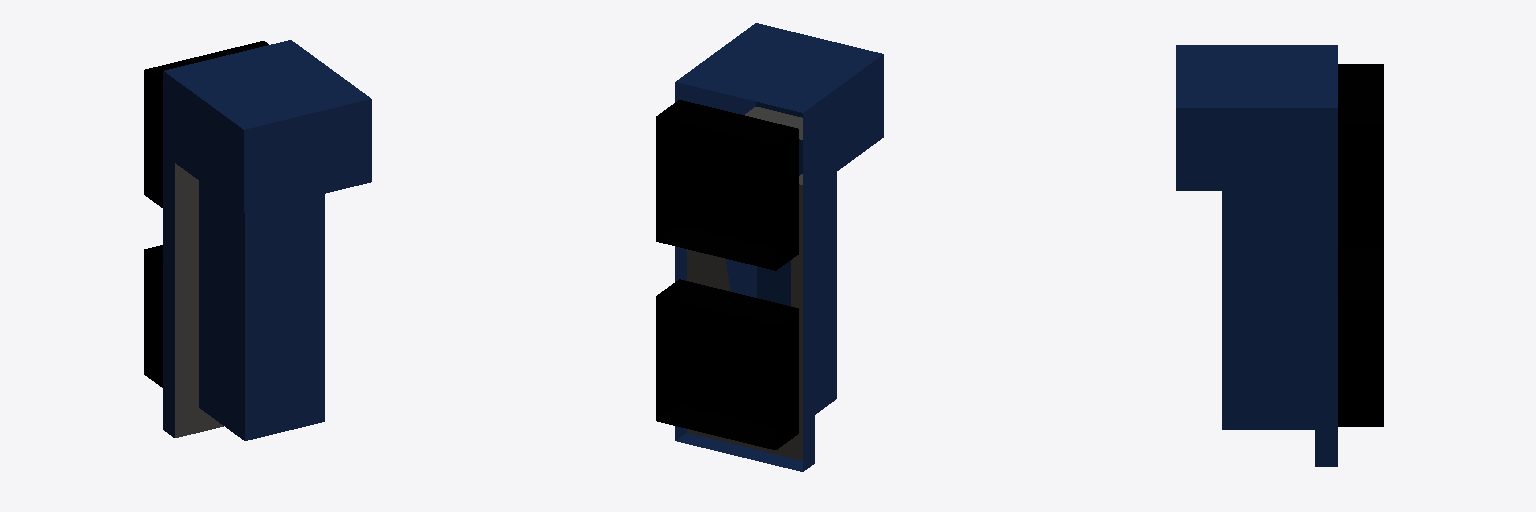
File: engine2.obj
The picture shows the model from 3 angles: view 1: azimuth 30°, elevation 25°; view 2: azimuth 150°, elevation 25°; view 3: azimuth 270°, elevation 25°; orthographic projection.
Visible parts, largest first — view 1: 335089_2B364B_Cube; view 2: 335089_2B364B_Cube; view 3: 335089_2B364B_Cube.
Part boxes in pixels (bbox=[...]): 335089_2B364B_Cube: bbox=[144, 40, 371, 440]; 335089_2B364B_Cube: bbox=[656, 23, 883, 471]; 335089_2B364B_Cube: bbox=[1176, 45, 1383, 466].
Bounding box in the file's own units: 3.2 × 8.6 × 4.5.